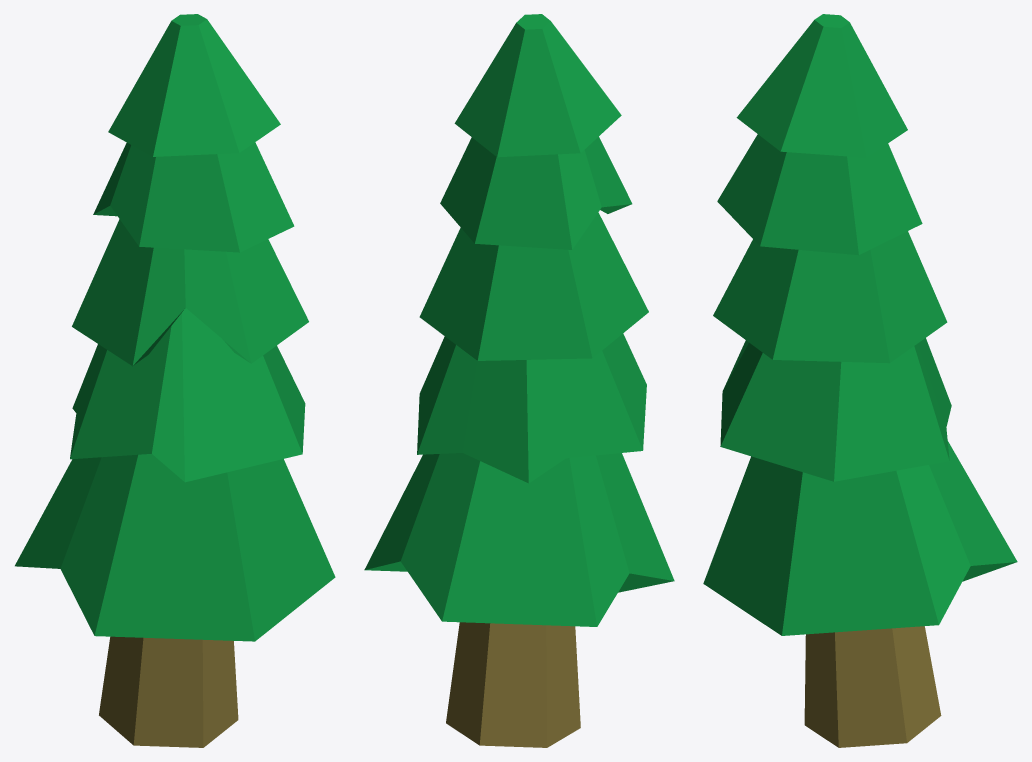
The model's file is Pohon1.fbx.
The picture shows the model from 3 angles, left to right: view 1: azimuth 30°, elevation 25°; view 2: azimuth 150°, elevation 25°; view 3: azimuth 270°, elevation 25°; orthographic projection. The views are drawn at different scales.
Parts seen in each view (by area): view 1: Cylinder.022, Cylinder.023, Cylinder.024, Cylinder.025, Cylinder.026, Cylinder.021; view 2: Cylinder.022, Cylinder.023, Cylinder.024, Cylinder.021, Cylinder.025, Cylinder.026; view 3: Cylinder.022, Cylinder.023, Cylinder.024, Cylinder.025, Cylinder.026, Cylinder.021.
Boxes of the visible parts, x1,y1,x2,y2 form: Cylinder.022: (15, 454, 335, 641); Cylinder.023: (70, 308, 305, 482); Cylinder.024: (72, 219, 308, 366); Cylinder.025: (93, 142, 294, 252); Cylinder.026: (108, 14, 280, 156); Cylinder.021: (99, 636, 238, 747); Cylinder.022: (364, 453, 674, 626); Cylinder.023: (417, 333, 646, 483); Cylinder.024: (419, 212, 648, 360); Cylinder.021: (446, 622, 580, 747); Cylinder.025: (440, 137, 632, 249); Cylinder.026: (454, 14, 621, 157); Cylinder.022: (703, 441, 1017, 635); Cylinder.023: (720, 338, 951, 481); Cylinder.024: (713, 231, 947, 363); Cylinder.025: (717, 134, 922, 255); Cylinder.026: (736, 14, 907, 157); Cylinder.021: (804, 626, 941, 747).
Size of the model in its own units: 460 by 1311 by 530.
